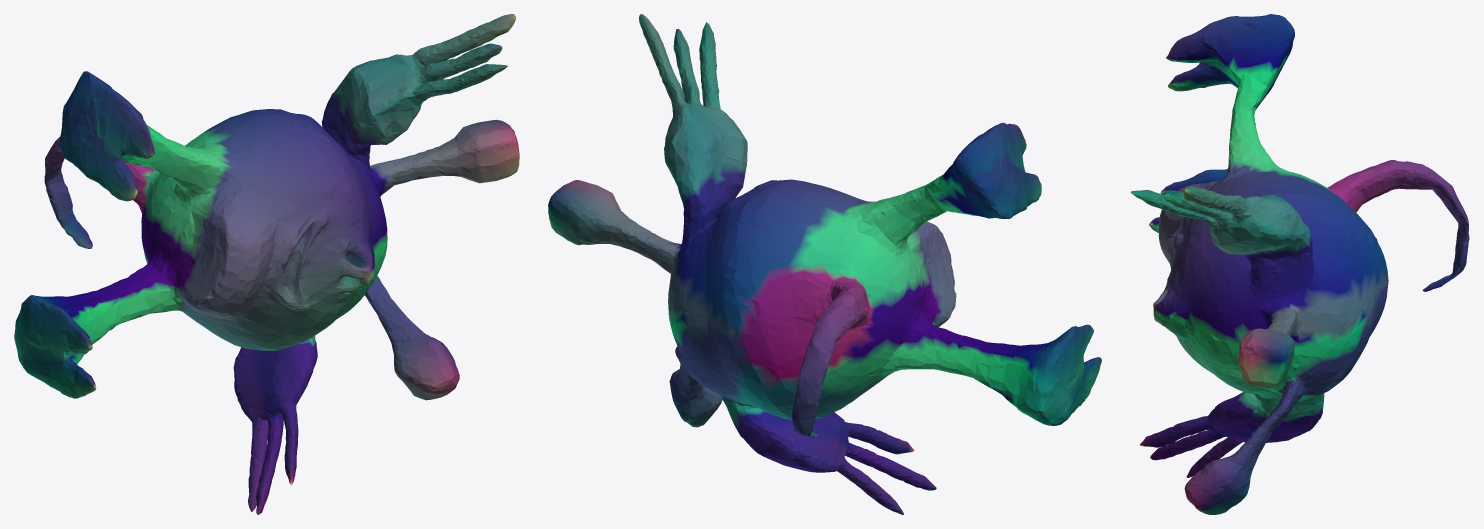
File: alien-14.off.obj
3 renders of one model, left to right at view 1: azimuth 30°, elevation 25°; view 2: azimuth 150°, elevation 25°; view 3: azimuth 270°, elevation 25°, orthographic. The views are drawn at different scales.
Size of the model in its own units: 1.43 by 1.19 by 0.8903.
